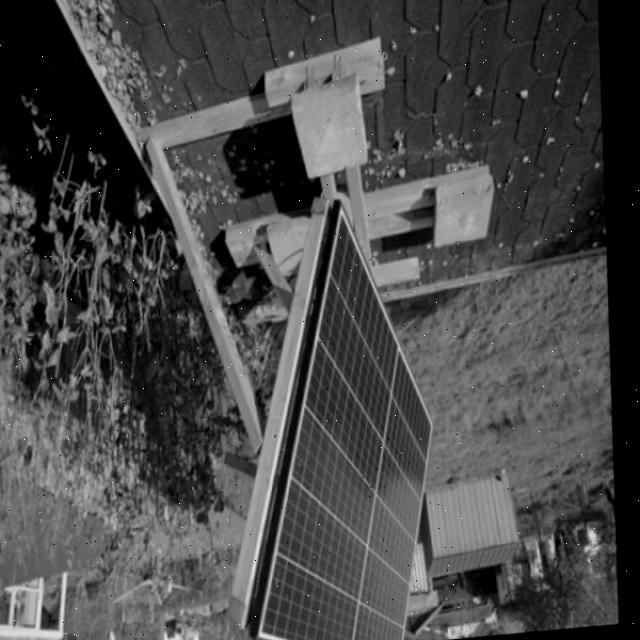Normal Solar Panel: (235, 200, 458, 640)
